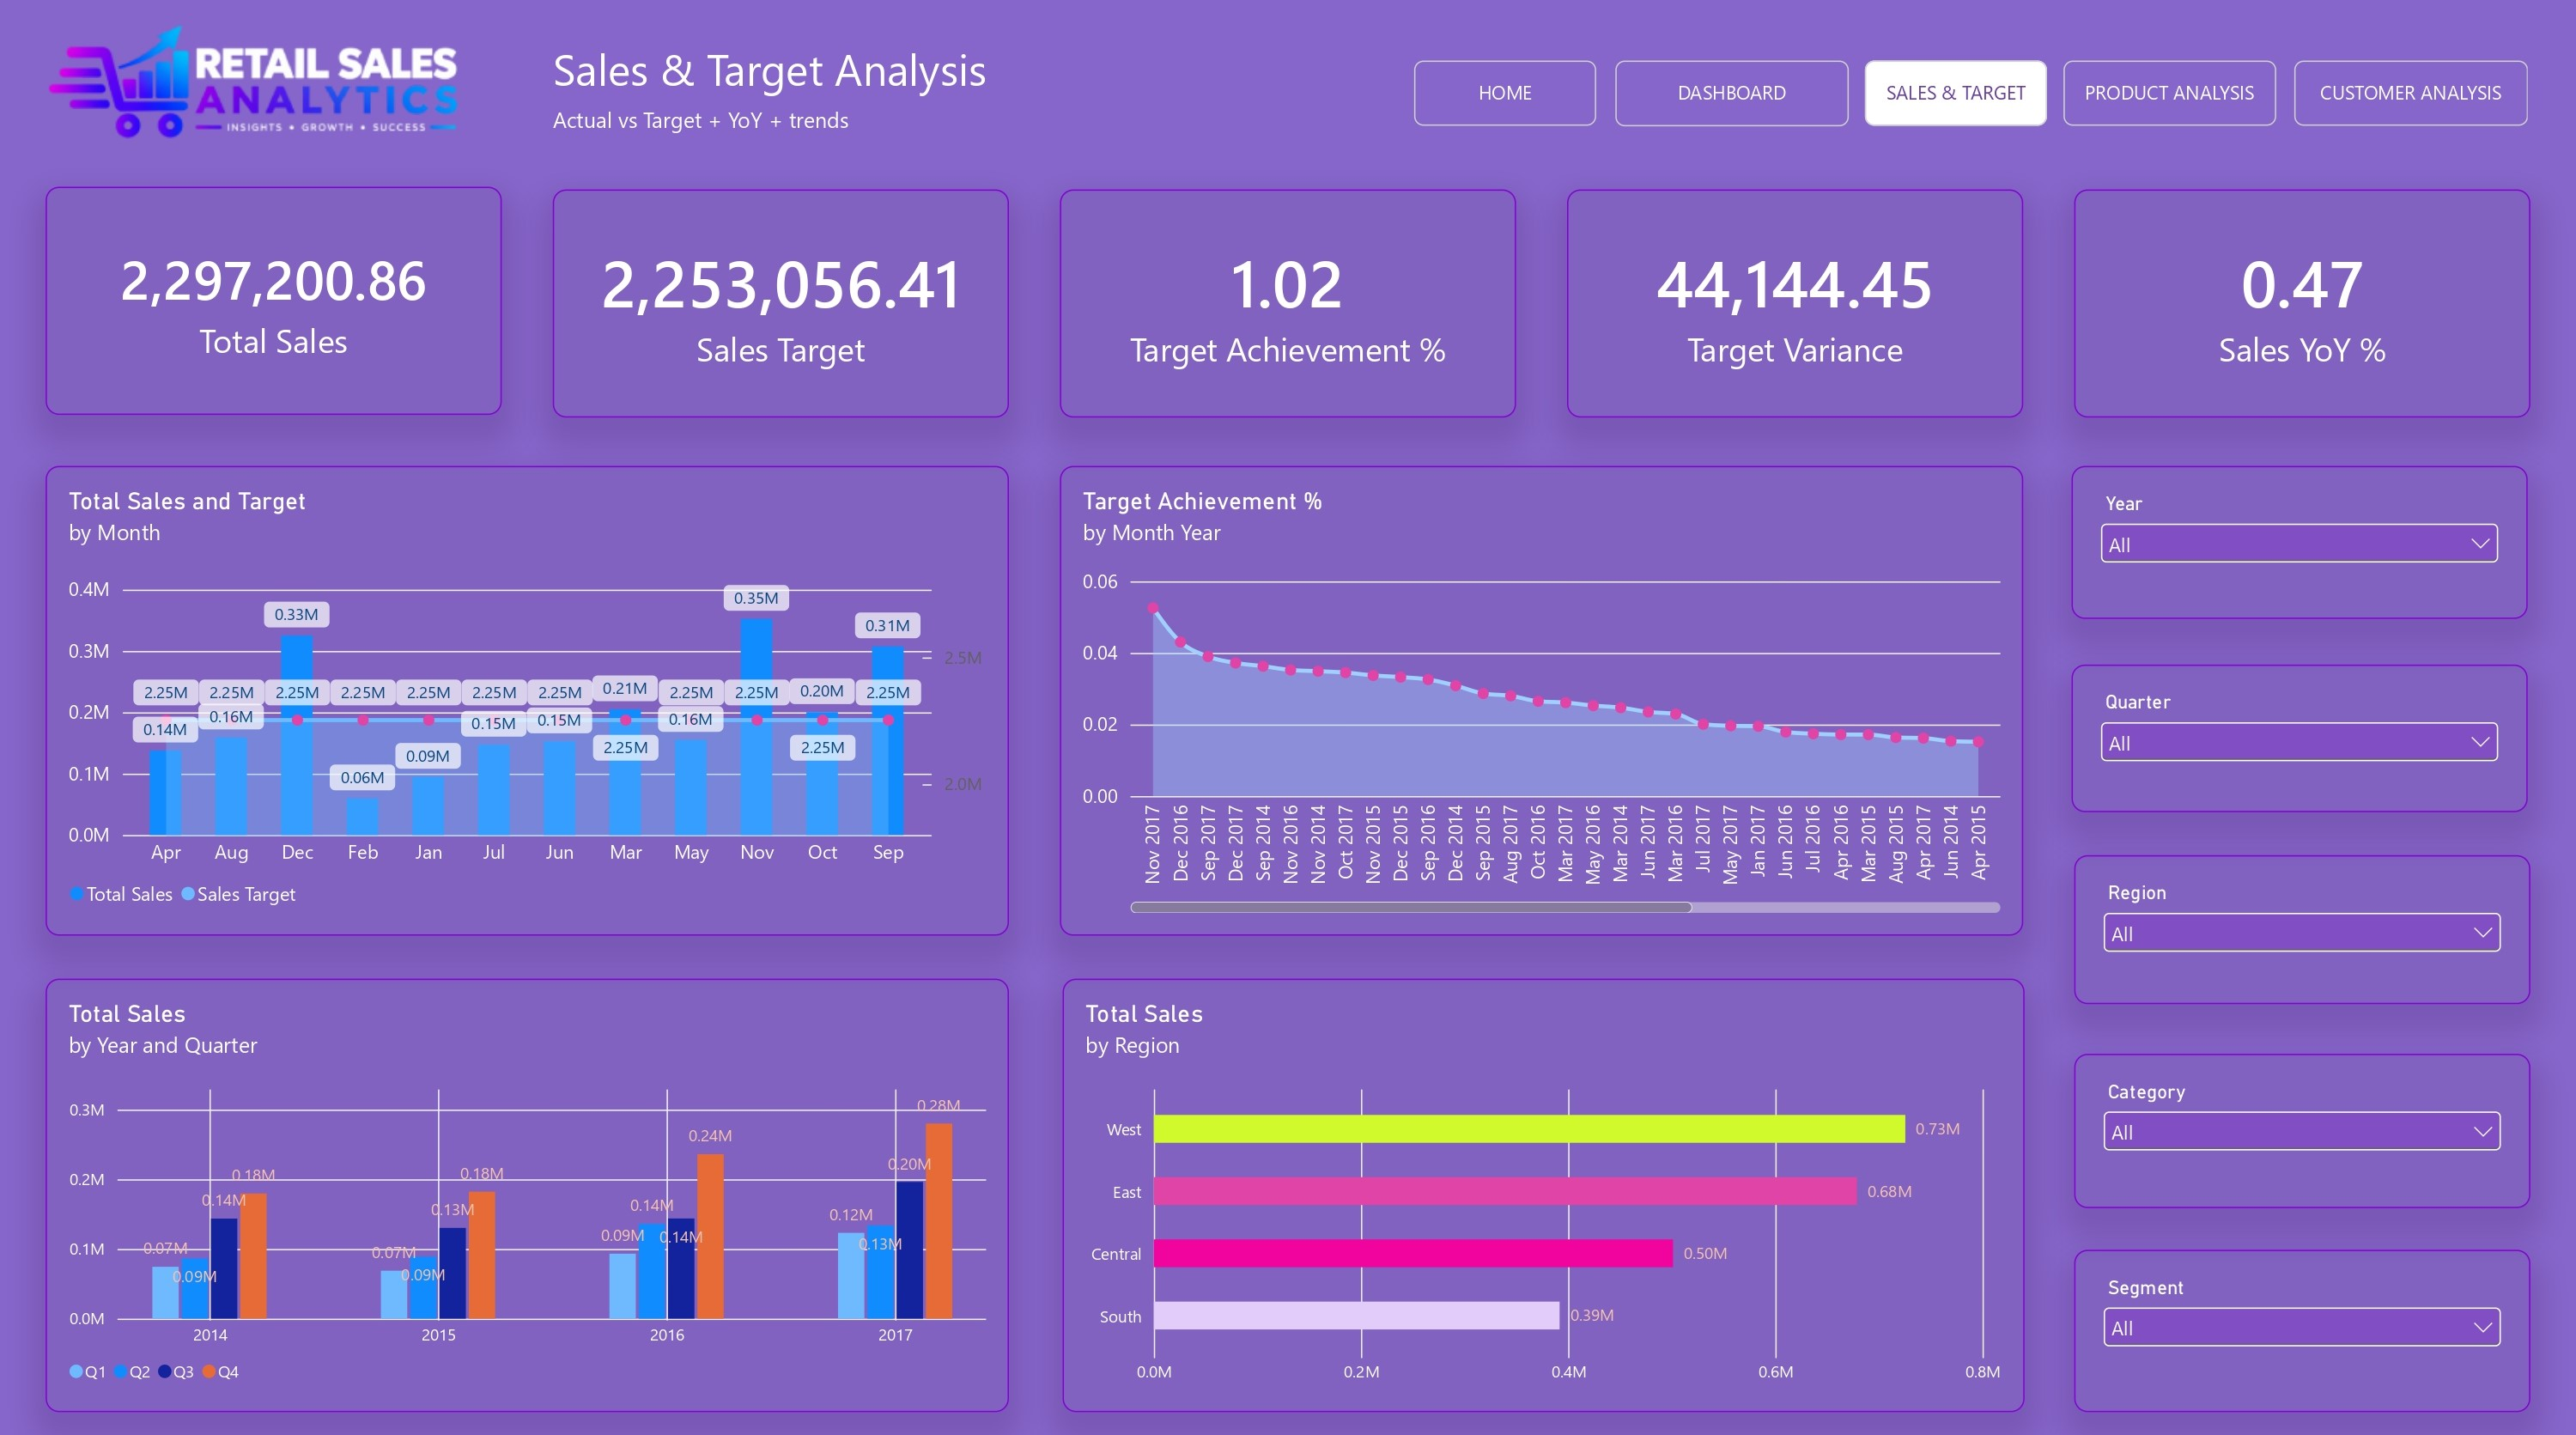

The page's visual inventory and layout, read from the dashboard file:
{"tool":"powerbi","page":{"name":"Sales & Target","canvas":[1920,1080],"ordinal":2},"visuals":[{"type":"textbox","box":[412.9,30,345.7,80],"z":0},{"type":"card","fields":{"Values":["FactSales.Total Sales"]},"box":[34,140,340,170],"z":1000},{"type":"card","fields":{"Values":["SalesTarget.Sales Target"]},"box":[412.2,141.3,340,170],"z":2000},{"type":"card","fields":{"Values":["SalesTarget.Target Achievement %"]},"box":[790.3,141.3,340,170],"z":3000},{"type":"card","fields":{"Values":["SalesTarget.Target Variance"]},"box":[1168.5,141.3,340,170],"z":4000},{"type":"card","fields":{"Values":["FactSales.Sales YoY %"]},"box":[1546.7,141.3,340,170],"z":5000},{"type":"lineClusteredColumnComboChart","title":"Total Sales and Target","fields":{"Category":["DimDate.Month","DimDate.Year"],"Y":["FactSales.Total Sales"],"Y2":["SalesTarget.Sales Target"]},"box":[34,348,718,350],"z":6000},{"type":"lineChart","fields":{"Category":["DimDate.Month Year"],"Y":["SalesTarget.Target Achievement %"]},"box":[790,348,718,350],"z":7000},{"type":"clusteredColumnChart","fields":{"Category":["DimDate.Year"],"Series":["DimDate.Quarter"],"Y":["FactSales.Total Sales"]},"box":[33.3,730,718.3,323.3],"z":8000},{"type":"barChart","fields":{"Category":["FactSales.Region"],"Y":["FactSales.Total Sales"]},"box":[791.7,730,716.7,323.3],"z":9000},{"type":"slicer","fields":{"Values":["DimDate.Year"]},"box":[1543.5,348.8,340,113.8],"z":10000},{"type":"slicer","fields":{"Values":["DimDate.Quarter"]},"box":[1544.7,495,340,110],"z":11000},{"type":"slicer","fields":{"Values":["FactSales.Region"]},"box":[1546.2,638.8,340,111.2],"z":12000},{"type":"slicer","fields":{"Values":["FactSales.Category"]},"box":[1546.2,785,340,115],"z":13000},{"type":"slicer","fields":{"Values":["FactSales.Segment"]},"box":[1546.2,932.5,340,121.2],"z":14000},{"type":"actionButton","box":[1054.6,45.7,135.7,48.6],"z":15000},{"type":"actionButton","box":[1389.7,45.7,135.7,48.6],"z":16000},{"type":"actionButton","box":[1538,45.7,158.6,48.6],"z":17000},{"type":"actionButton","box":[1709.2,45.7,174.3,48.6],"z":18000},{"type":"actionButton","box":[1203,46,174,49],"z":19000},{"type":"image","box":[32.9,5.7,315.7,110],"z":19001}]}

Visuals, with their boxes in screenshot pixels (x1, y1, x2, y2), scaled from the page's 1920x1080 canvas onto the 2576x1435 screenshot:
textbox: <box>554,40,1018,146</box>
card - FactSales.Total Sales: <box>46,186,501,412</box>
card - SalesTarget.Sales Target: <box>553,188,1009,414</box>
card - SalesTarget.Target Achievement %: <box>1060,188,1516,414</box>
card - SalesTarget.Target Variance: <box>1568,188,2024,414</box>
card - FactSales.Sales YoY %: <box>2075,188,2531,414</box>
"Total Sales and Target" lineClusteredColumnComboChart: <box>46,462,1009,927</box>
lineChart - DimDate.Month Year x SalesTarget.Target Achievement %: <box>1060,462,2023,927</box>
clusteredColumnChart - DimDate.Year x DimDate.Quarter: <box>45,970,1008,1400</box>
barChart - FactSales.Region x FactSales.Total Sales: <box>1062,970,2024,1400</box>
slicer - DimDate.Year: <box>2071,464,2527,615</box>
slicer - DimDate.Quarter: <box>2073,658,2529,804</box>
slicer - FactSales.Region: <box>2075,848,2530,996</box>
slicer - FactSales.Category: <box>2075,1043,2530,1195</box>
slicer - FactSales.Segment: <box>2075,1239,2530,1400</box>
actionButton: <box>1415,61,1597,125</box>
actionButton: <box>1864,61,2046,125</box>
actionButton: <box>2063,61,2276,125</box>
actionButton: <box>2293,61,2527,125</box>
actionButton: <box>1614,61,1848,126</box>
image: <box>44,8,468,154</box>
